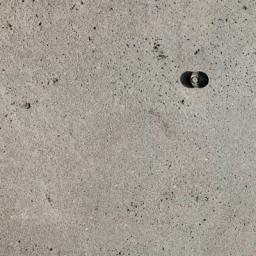FOD: (178, 69, 214, 92)
